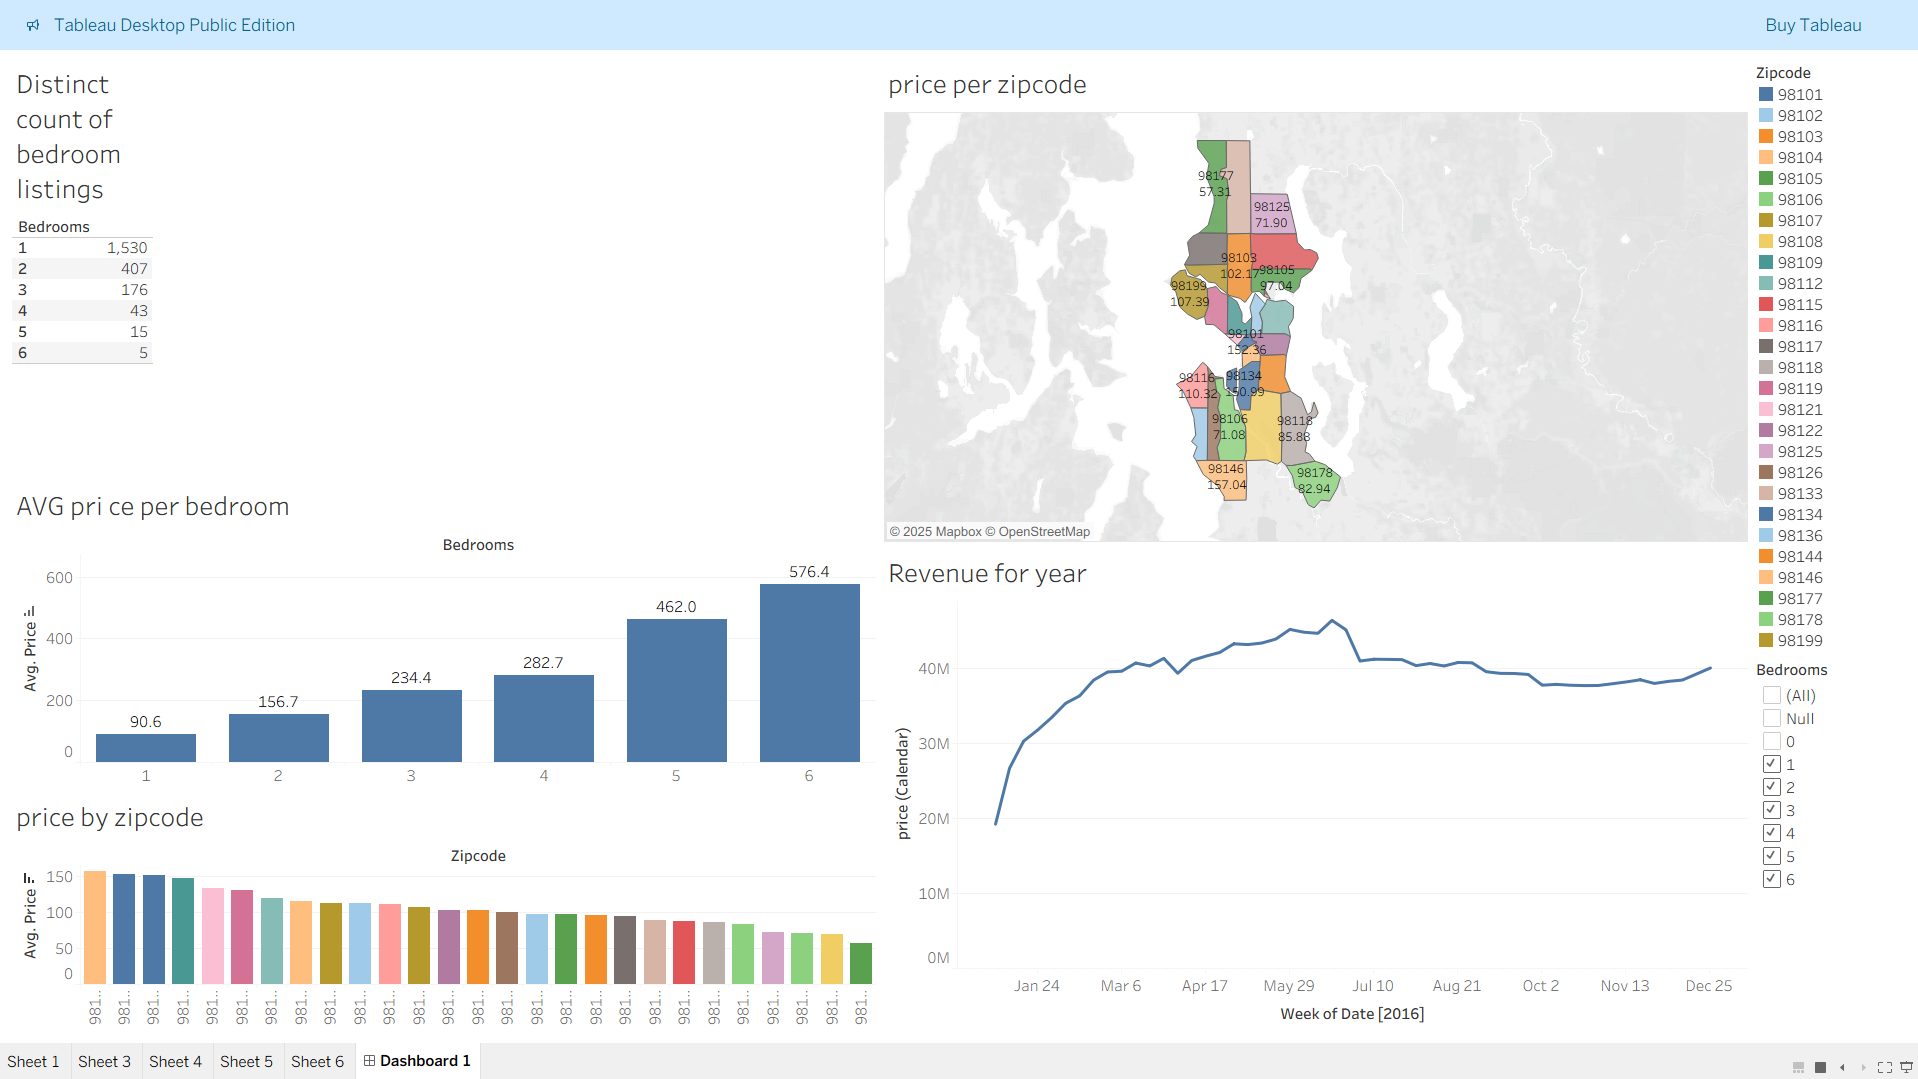

What the dashboard file says about the page in this screenshot:
{"tool":"tableau","page":{"name":"Dashboard 1","canvas":[1000,1000],"units":"permille","ordinal":0},"visuals":[{"type":"worksheet","title":"Sheet 6","mark":"Automatic","rows":["bedrooms"],"box":[4.8,10,446.9,423.2]},{"type":"worksheet","title":"Sheet 3","mark":"Multipolygon","box":[451.7,10,446.9,490]},{"type":"legend","title":"Sheet 1","param":"[federated.0u68gee1925xgl1fu96w70o3k1lx].[none:zipcode:ok]","box":[898.6,10,96.6,676.6]},{"type":"worksheet","title":"Sheet 5","mark":"Automatic","rows":["price"],"cols":["bedrooms"],"box":[4.8,433.2,446.9,311.8]},{"type":"worksheet","title":"Sheet 4","mark":"Automatic","rows":["price (Calendar)"],"cols":["date"],"box":[451.7,500,446.9,490]},{"type":"filter","title":"Sheet 5","param":"[federated.0u68gee1925xgl1fu96w70o3k1lx].[none:bedrooms:ok]","box":[898.6,686.6,96.6,303.4]},{"type":"worksheet","title":"Sheet 1","mark":"Automatic","rows":["price"],"cols":["zipcode"],"box":[4.8,745,446.9,245]}]}

Visuals, with their boxes on the dashboard's canvas, which has no fixed pixel size, in thousandths of its width and height (x1, y1, x2, y2). These are canvas units, not pixel positions in the 1918x1079 screenshot, which may show the page scaled, cropped or inside an application window:
"Sheet 6" worksheet: region(5, 10, 452, 433)
"Sheet 3" worksheet (Multipolygon marks): region(452, 10, 899, 500)
"Sheet 1" legend: region(899, 10, 995, 687)
"Sheet 5" worksheet: region(5, 433, 452, 745)
"Sheet 4" worksheet: region(452, 500, 899, 990)
"Sheet 5" filter: region(899, 687, 995, 990)
"Sheet 1" worksheet: region(5, 745, 452, 990)
